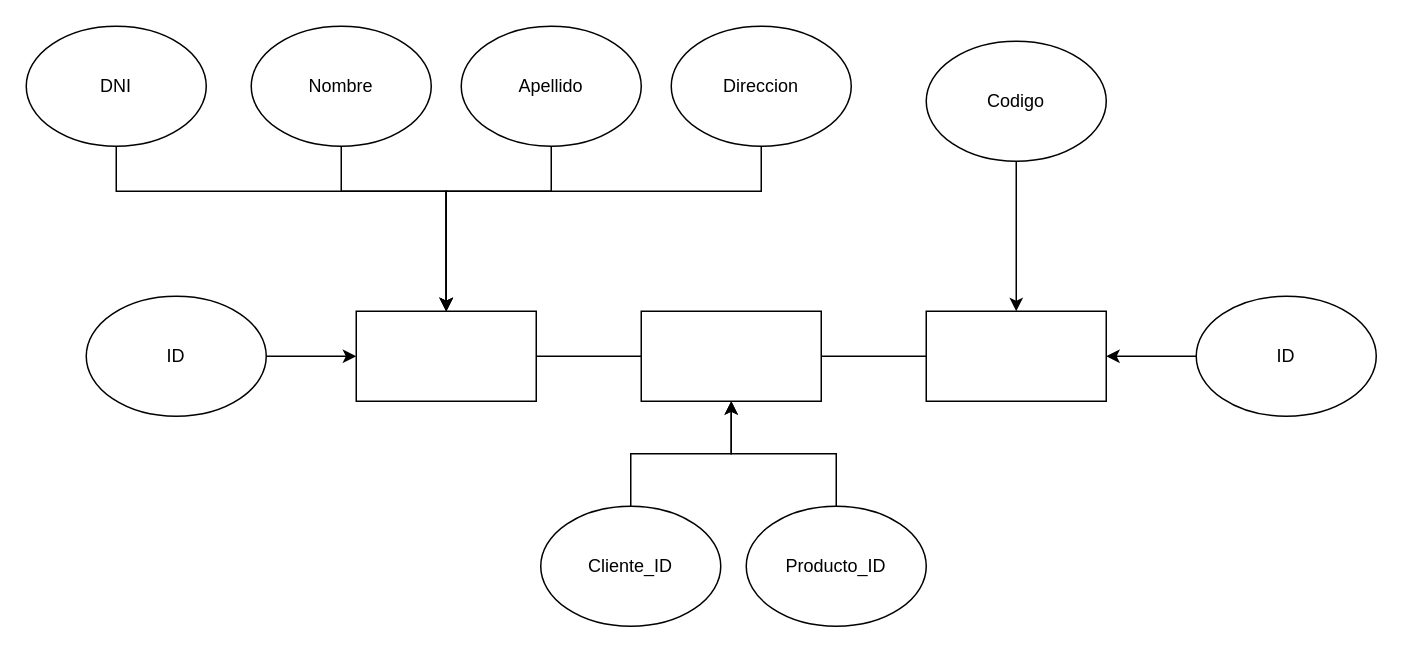
The diagram is 1403 pixels wide and 653 high, and some of its shapes have lost their labels. Here are the shapes that lost their labels. From the top down, the centre of each, then its label:
At point (445, 355): "Cliente".
At point (730, 355): "Compra".
At point (1015, 355): "Producto".
